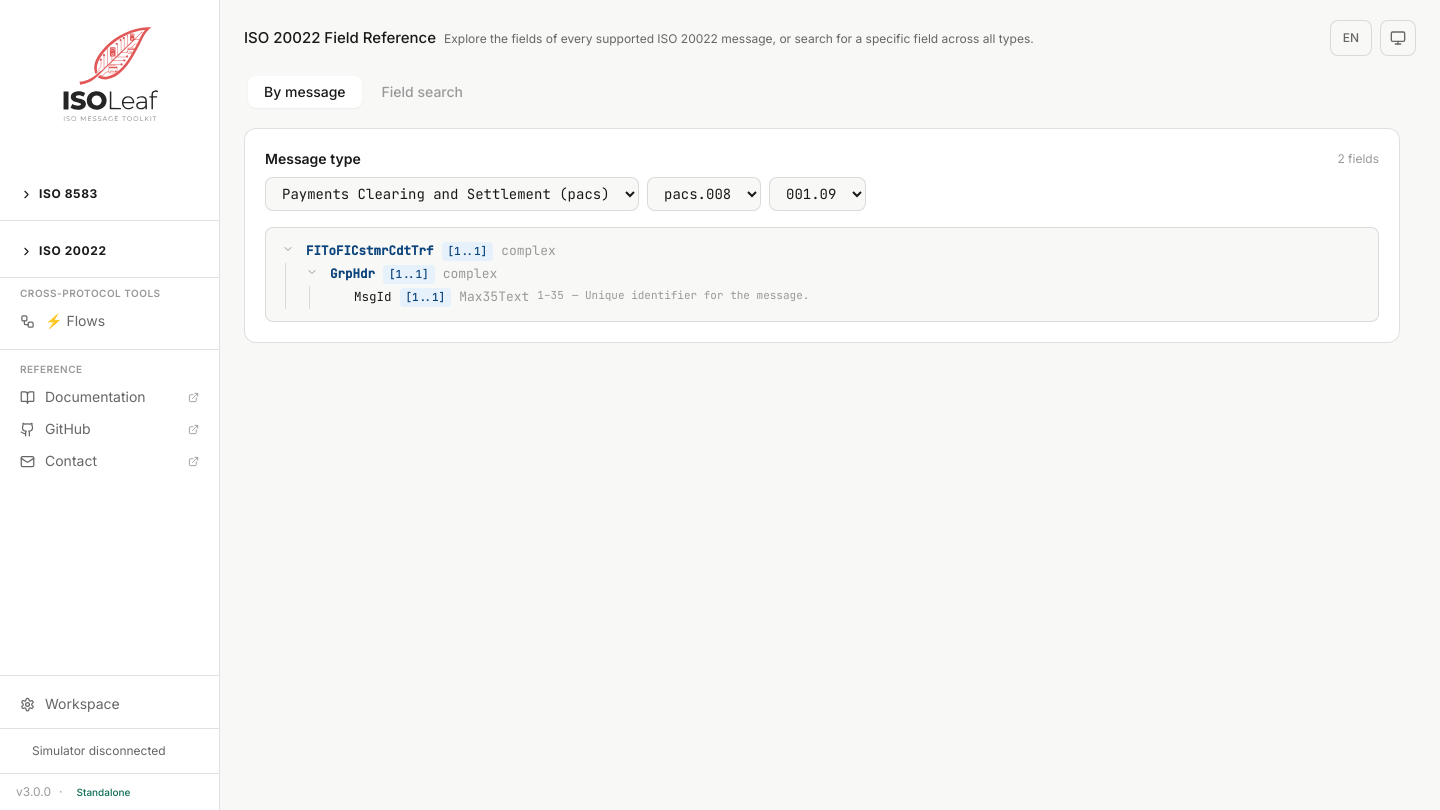
Test: Iso20022ReferencePage › close button (✕) removes the FieldDetailPanel
Click the text "MsgId". click: (373, 297)
box: [354,288,392,306]
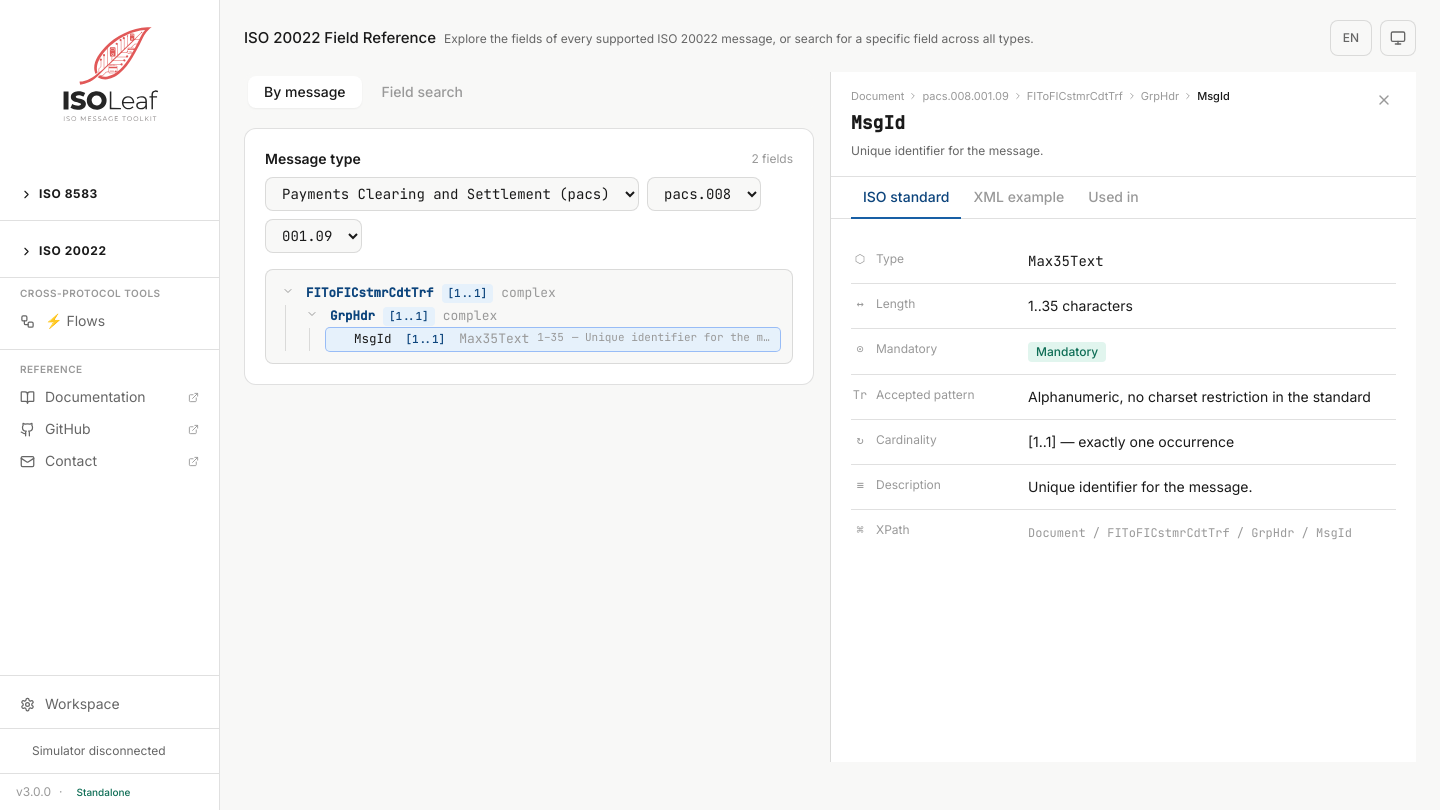
expect the element with test id "iso20022-field-detail-panel" is shown: met, box [831,72,1416,762]
Click the button with test id "iso20022-field-detail-close". click: (1384, 100)
box: [1372,88,1396,112]
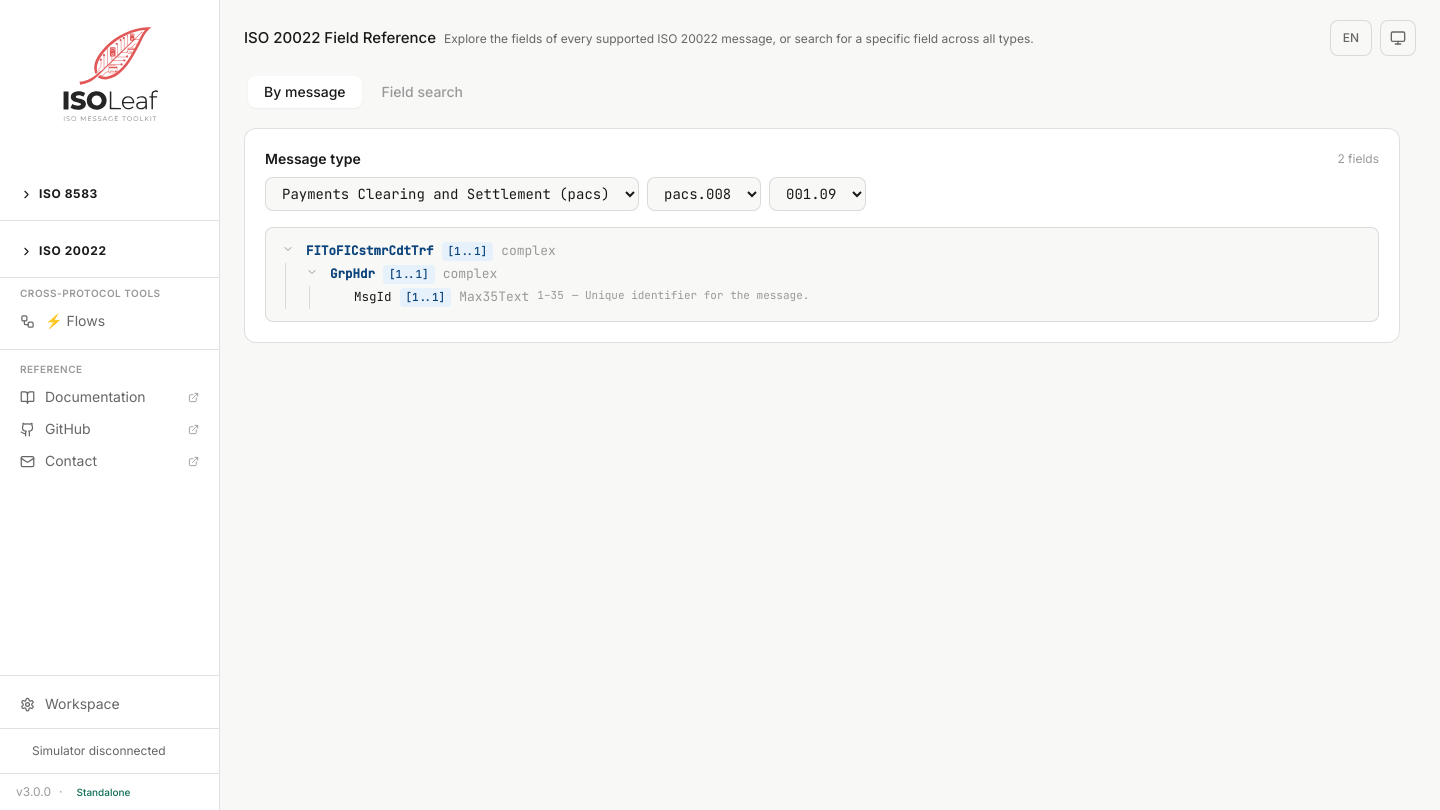
expect the element with test id "iso20022-field-detail-panel" is gone: met
